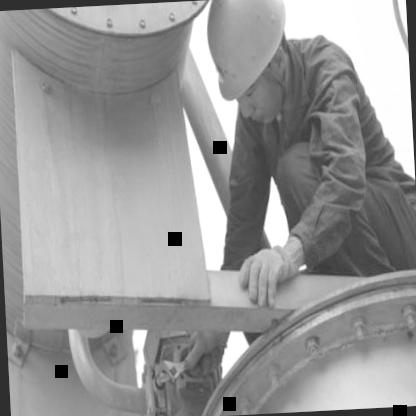helmet: (191, 0, 306, 134)
